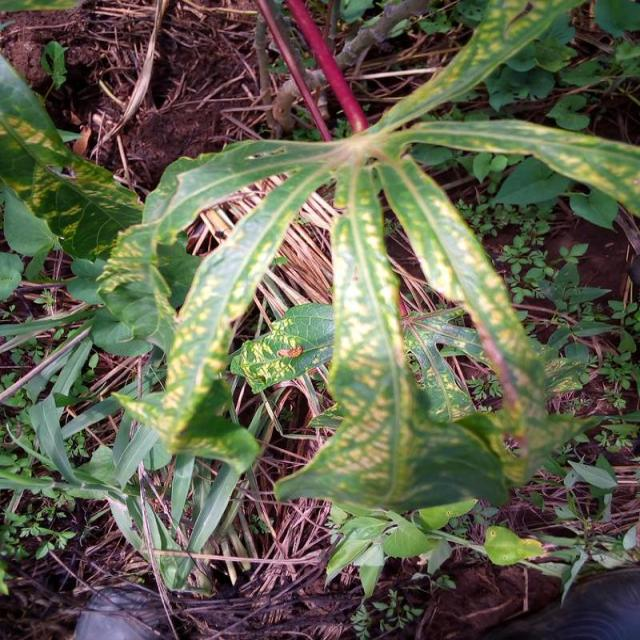cassava leaf: (93, 1, 638, 518), (272, 159, 522, 515)
